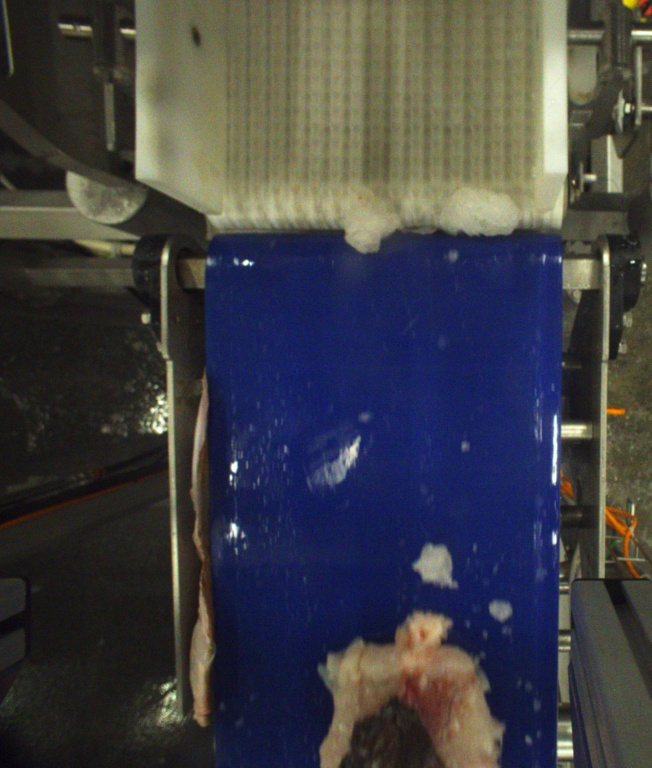ANF: (315, 609, 509, 768)
